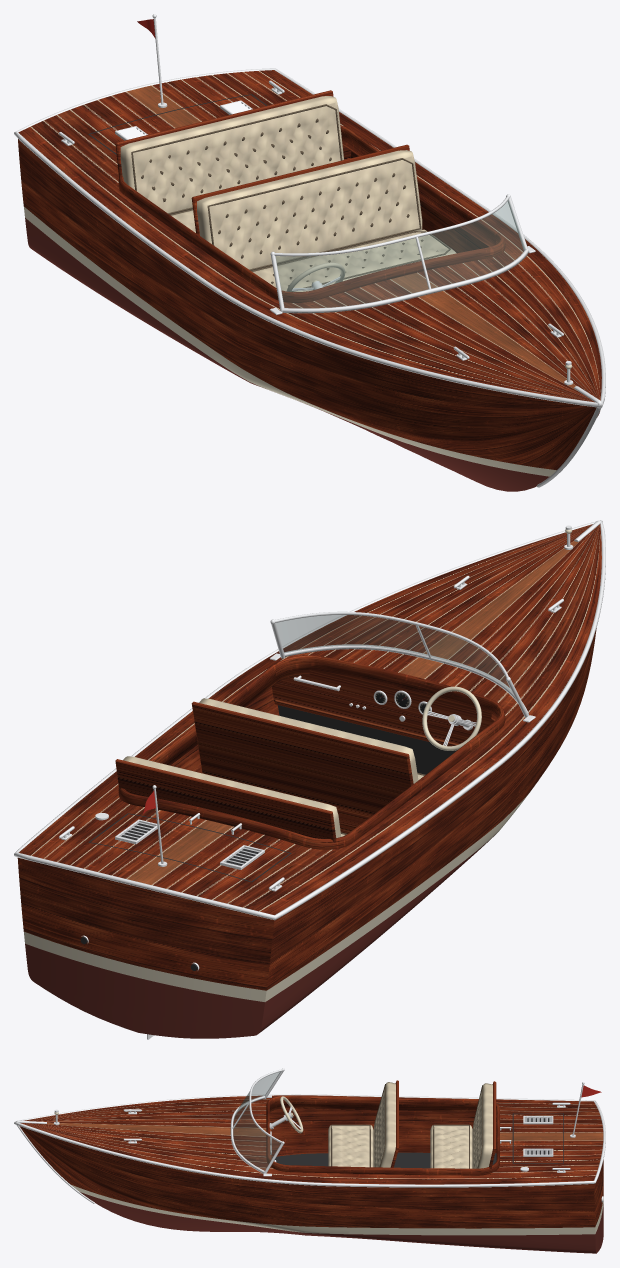
File: Lake_Runabout.glb
3 views of the same model, one above another, from view 1: azimuth 30°, elevation 25°; view 2: azimuth 150°, elevation 25°; view 3: azimuth 270°, elevation 25° (orthographic). The views are drawn at different scales.
Parts seen in each view (by area): view 1: Runabout; view 2: Runabout, WheelRim; view 3: Runabout, WheelRim.
Part boxes in pixels (x1,y1,x2,y2): Runabout: (14, 14, 605, 491); Runabout: (14, 520, 605, 1039); WheelRim: (422, 686, 481, 750); Runabout: (14, 1068, 605, 1253); WheelRim: (280, 1096, 303, 1133).
Bounding box in the file's own units: 2.21 × 1.82 × 6.15.
Materials: 13 (4 with a texture image).
